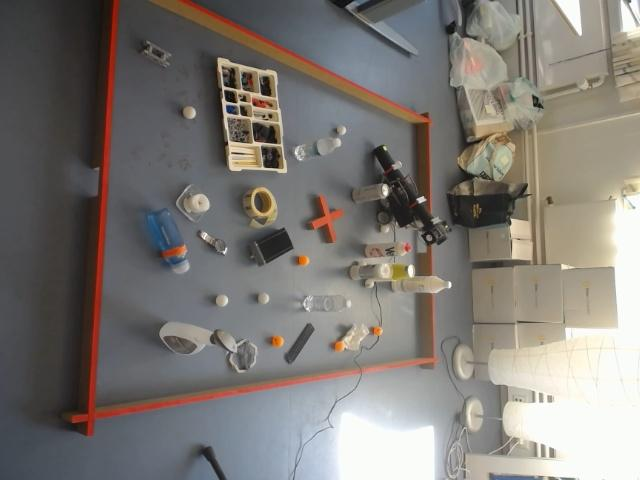orange: (272, 336, 283, 346), (335, 341, 345, 351), (299, 256, 309, 265), (374, 326, 383, 336)
robot: (372, 145, 451, 247)
robot-front: (374, 146, 393, 168)
white: (184, 106, 196, 119), (216, 295, 228, 306), (258, 292, 269, 303), (338, 124, 346, 134), (380, 225, 389, 233), (365, 279, 373, 288)
